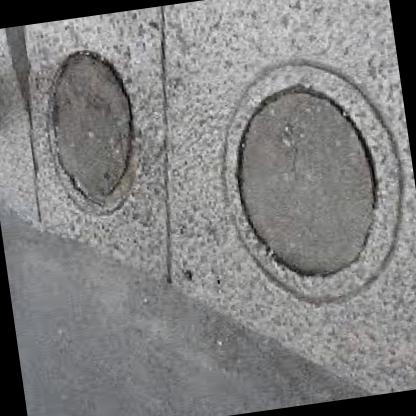manholes: (190, 31, 416, 321), (13, 18, 173, 233)
